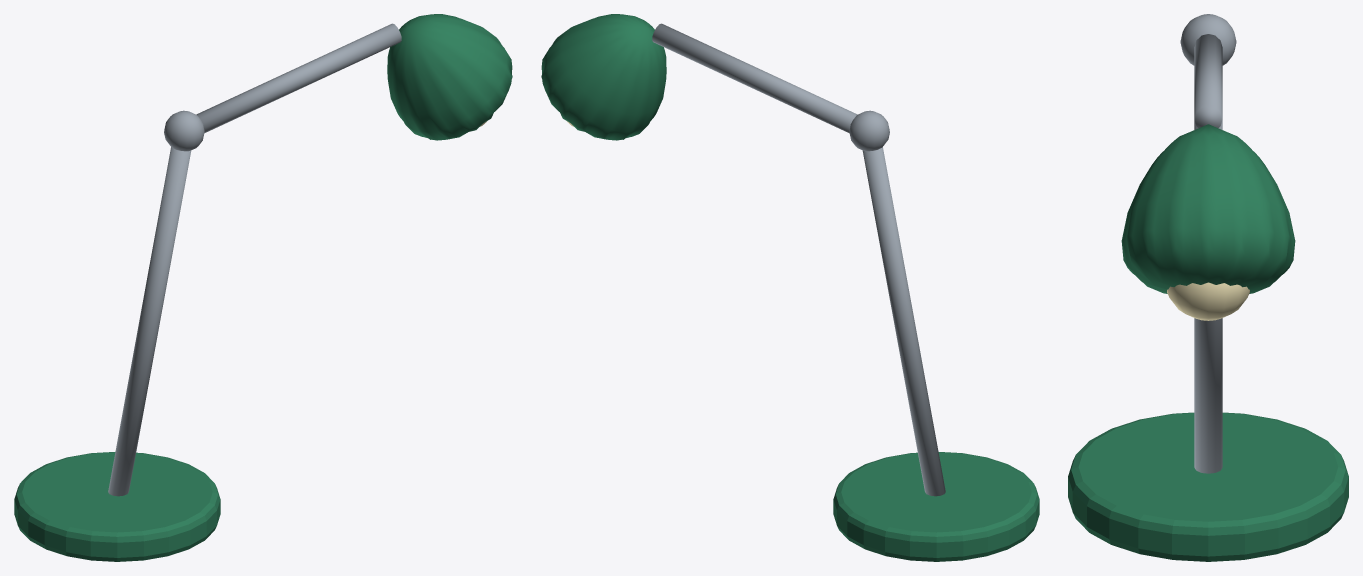
File: DeskLamp.fbx
The picture shows the model from 3 angles, left to right: view 1: azimuth 30°, elevation 25°; view 2: azimuth 150°, elevation 25°; view 3: azimuth 270°, elevation 25°; orthographic projection. The views are drawn at different scales.
Visible parts, largest first — view 1: DeskLamp_Base, DeskLamp_Shade, DeskLamp_ArmLower, DeskLamp_ArmUpper, DeskLamp_Joint; view 2: DeskLamp_Base, DeskLamp_Shade, DeskLamp_ArmLower, DeskLamp_ArmUpper, DeskLamp_Joint; view 3: DeskLamp_Base, DeskLamp_Shade, DeskLamp_ArmLower, DeskLamp_ArmUpper, DeskLamp_Bulb, DeskLamp_Joint.
Boxes of the visible parts, left/top/right/bottom form: DeskLamp_Base: left=14, top=452, right=220, bottom=561; DeskLamp_Shade: left=387, top=14, right=512, bottom=140; DeskLamp_ArmLower: left=108, top=147, right=191, bottom=496; DeskLamp_ArmUpper: left=196, top=23, right=401, bottom=133; DeskLamp_Joint: left=164, top=110, right=204, bottom=151; DeskLamp_Base: left=833, top=452, right=1039, bottom=561; DeskLamp_Shade: left=541, top=14, right=666, bottom=140; DeskLamp_ArmLower: left=862, top=147, right=945, bottom=496; DeskLamp_ArmUpper: left=652, top=23, right=857, bottom=133; DeskLamp_Joint: left=849, top=110, right=889, bottom=151; DeskLamp_Base: left=1068, top=412, right=1348, bottom=561; DeskLamp_Shade: left=1121, top=124, right=1295, bottom=293; DeskLamp_ArmLower: left=1194, top=120, right=1222, bottom=473; DeskLamp_ArmUpper: left=1194, top=34, right=1222, bottom=128; DeskLamp_Bulb: left=1167, top=282, right=1249, bottom=320; DeskLamp_Joint: left=1180, top=14, right=1236, bottom=65.
Bounding box in the file's own units: 0.4258 × 0.3678 × 0.16.
